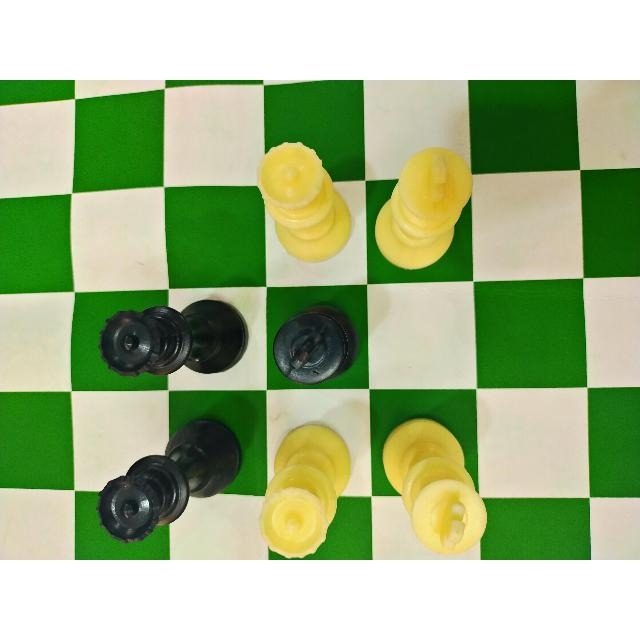black-king: (270, 300, 356, 386)
black-queen: (95, 412, 246, 546), (97, 296, 251, 380)
white-king: (381, 412, 491, 559), (372, 143, 474, 273)
white-queen: (256, 421, 352, 559), (256, 138, 354, 264)
